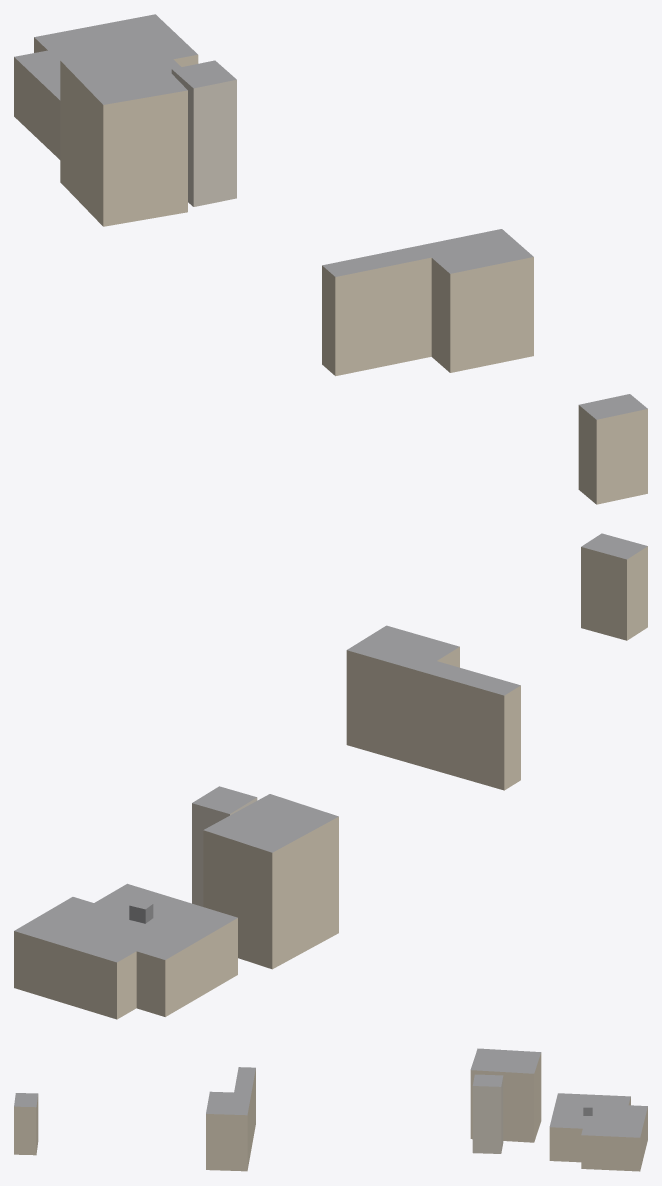
Rendered from building_5_-1.glb.
The picture shows the model from 3 angles, top to bottom: view 1: azimuth 30°, elevation 25°; view 2: azimuth 150°, elevation 25°; view 3: azimuth 270°, elevation 25°; orthographic projection. The views are drawn at different scales.
Parts seen in each view (by area): view 1: sandstone, roof, concrete_warm; view 2: sandstone, roof, concrete_warm; view 3: sandstone, roof, concrete_warm.
Part boxes in pixels (<box>): sandstone: <box>14,37,647,504</box>; roof: <box>14,14,647,419</box>; concrete_warm: <box>171,69,236,206</box>; sandstone: <box>14,546,647,1019</box>; roof: <box>14,533,647,962</box>; concrete_warm: <box>192,797,257,906</box>; sandstone: <box>14,1053,647,1171</box>; roof: <box>14,1048,647,1137</box>; concrete_warm: <box>472,1077,503,1153</box>.
Bounding box in the file's own units: 23.76 × 14.12 × 118.
